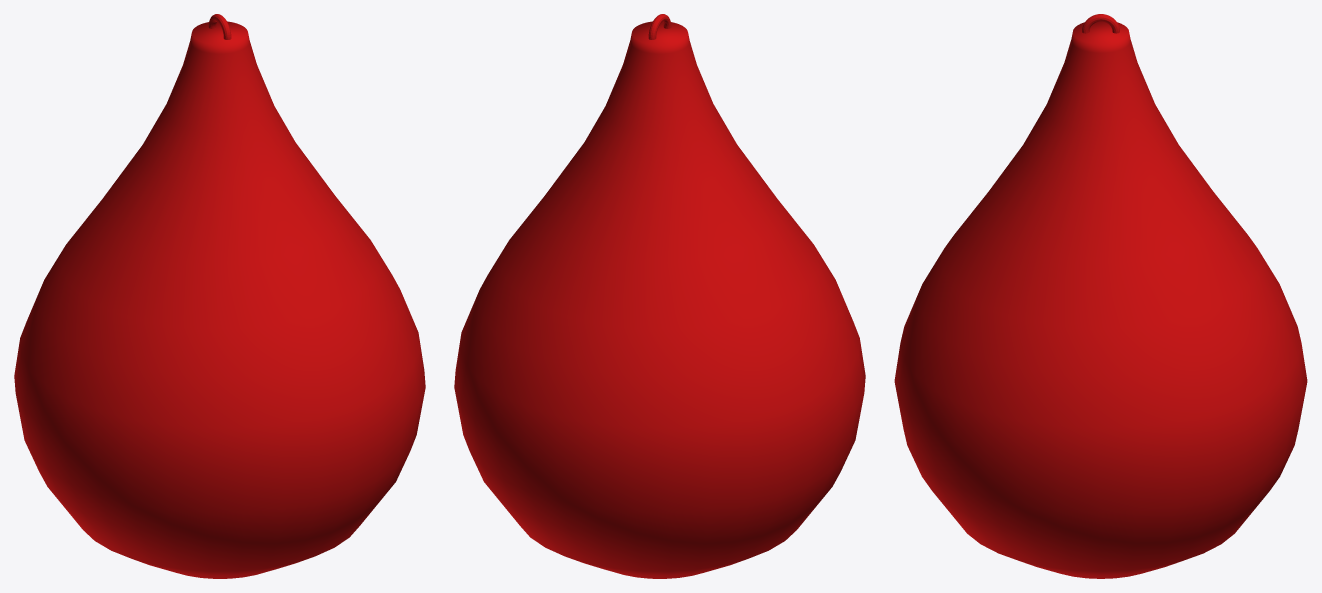
The model's file is bag.obj.
3 renders of one model, left to right at view 1: azimuth 30°, elevation 25°; view 2: azimuth 150°, elevation 25°; view 3: azimuth 270°, elevation 25°, orthographic.
Visible parts, largest first — view 1: Bag; view 2: Bag; view 3: Bag.
Part boxes in pixels (left/top/right/bottom): Bag: left=14, top=14, right=425, bottom=578; Bag: left=454, top=14, right=865, bottom=578; Bag: left=894, top=14, right=1307, bottom=578.
Size of the model in its own units: 0.287 by 0.4188 by 0.287.
